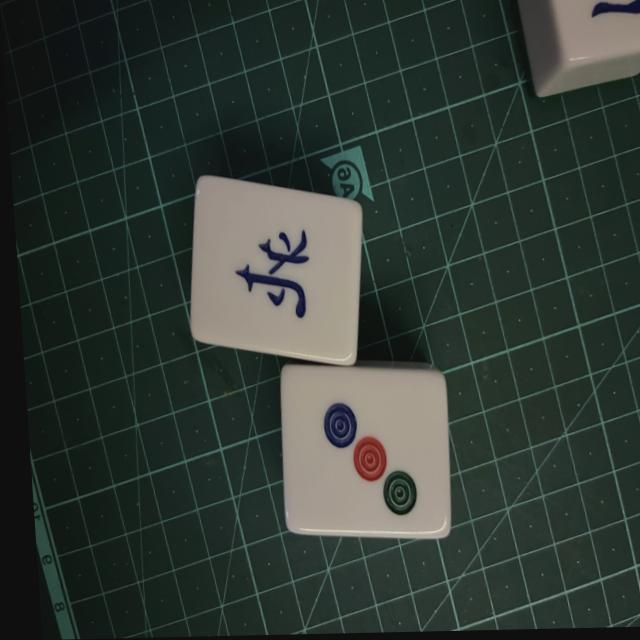north: (207, 206, 353, 330)
t3: (277, 366, 455, 539)
